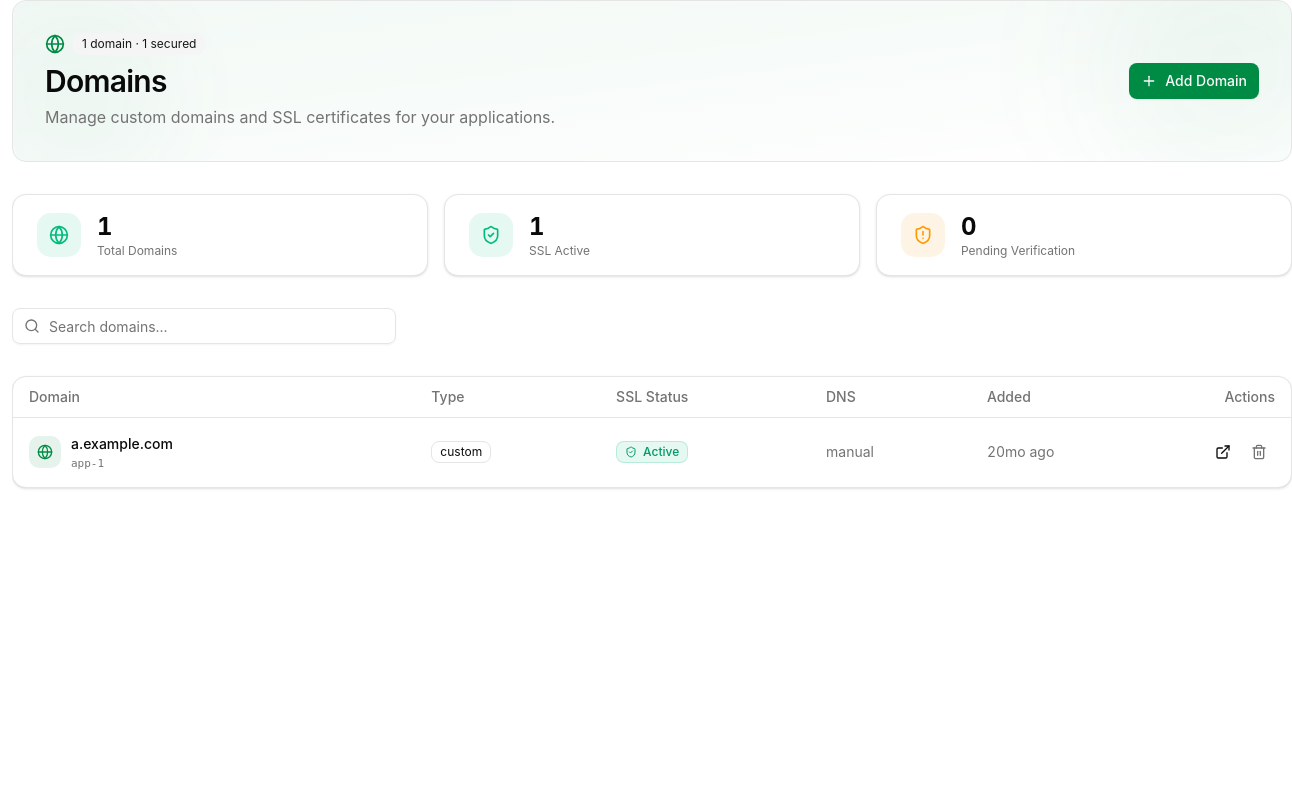
Test case: Domains page › shows the "no results" copy when the search matches nothing
Type "zzz" into the field with placeholder "Search domains..." at [204, 326], box top-left (12, 308), bottom-right (396, 344)
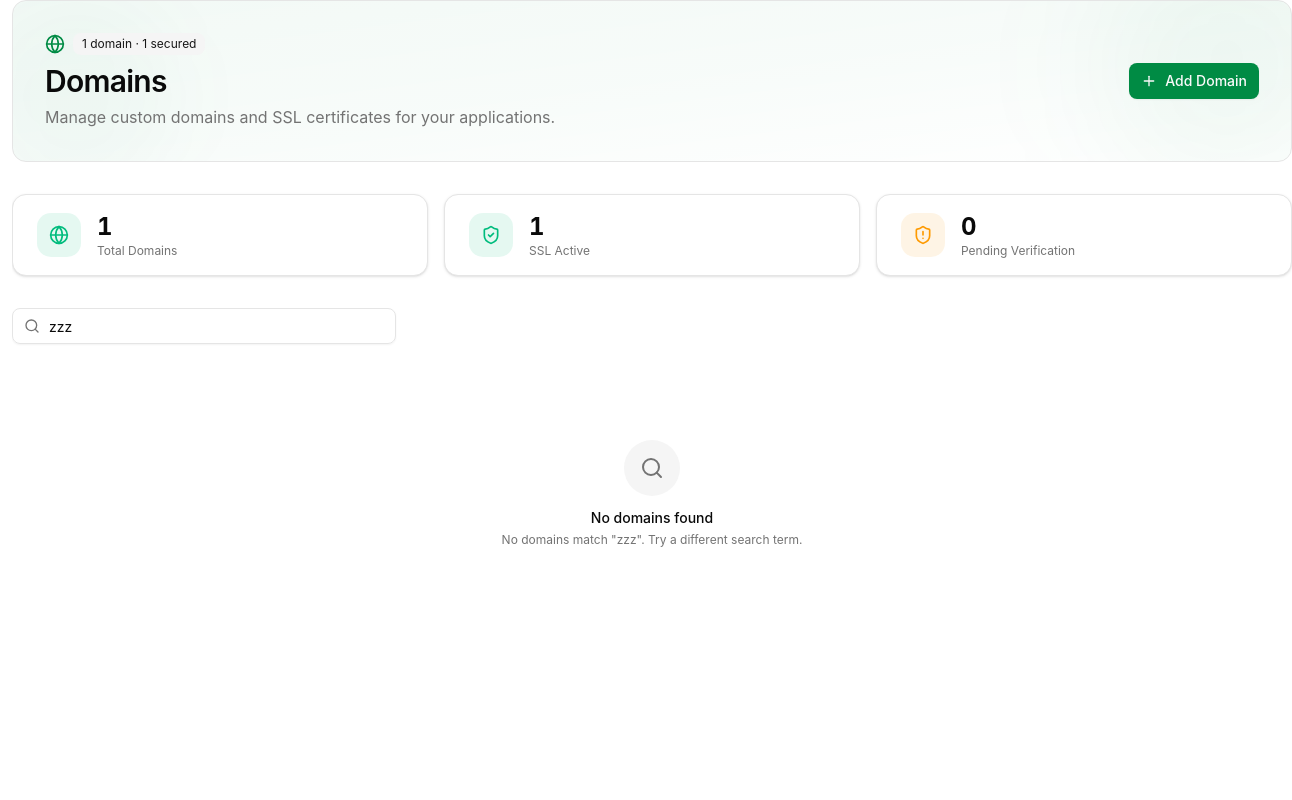
Expected: the text "No domains found" is shown, top-left (591, 508), bottom-right (713, 528)
